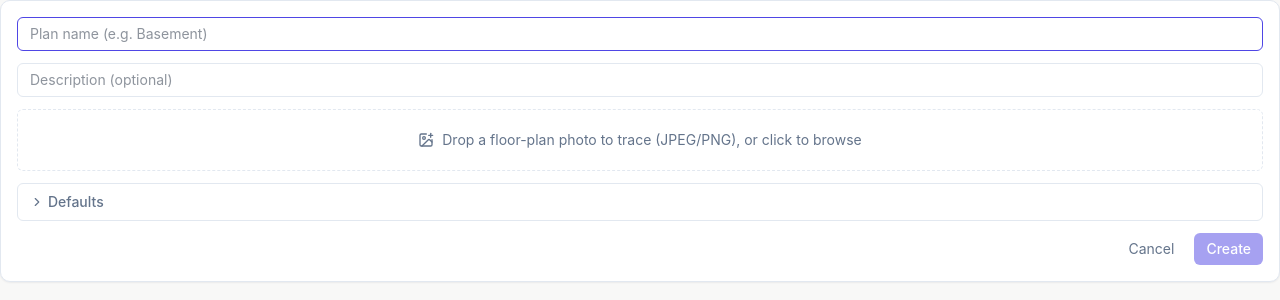
Test: PlanCreateCard › disables Create until a name is typed
The image size is (1280, 300).
expect the submit button is disabled: met, box top-left (1194, 233), bottom-right (1263, 265)
In the field named "New plan name": (640, 34) top-left (17, 17), bottom-right (1263, 51), type "Basement"
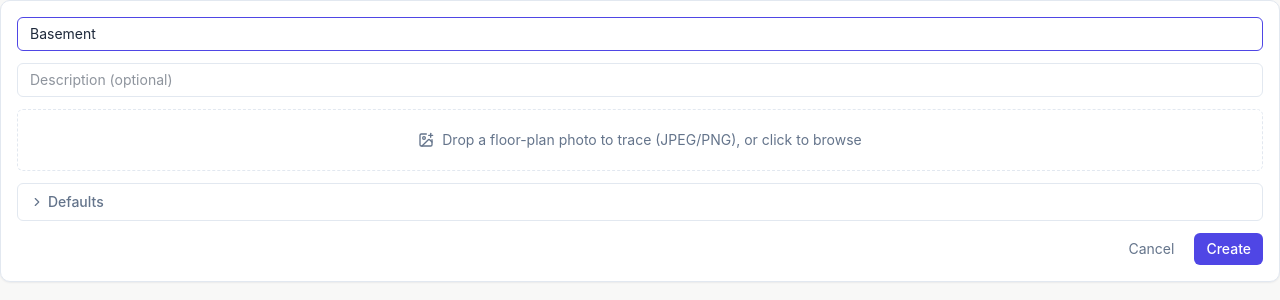
expect the submit button is enabled: met, box top-left (1194, 233), bottom-right (1263, 265)
